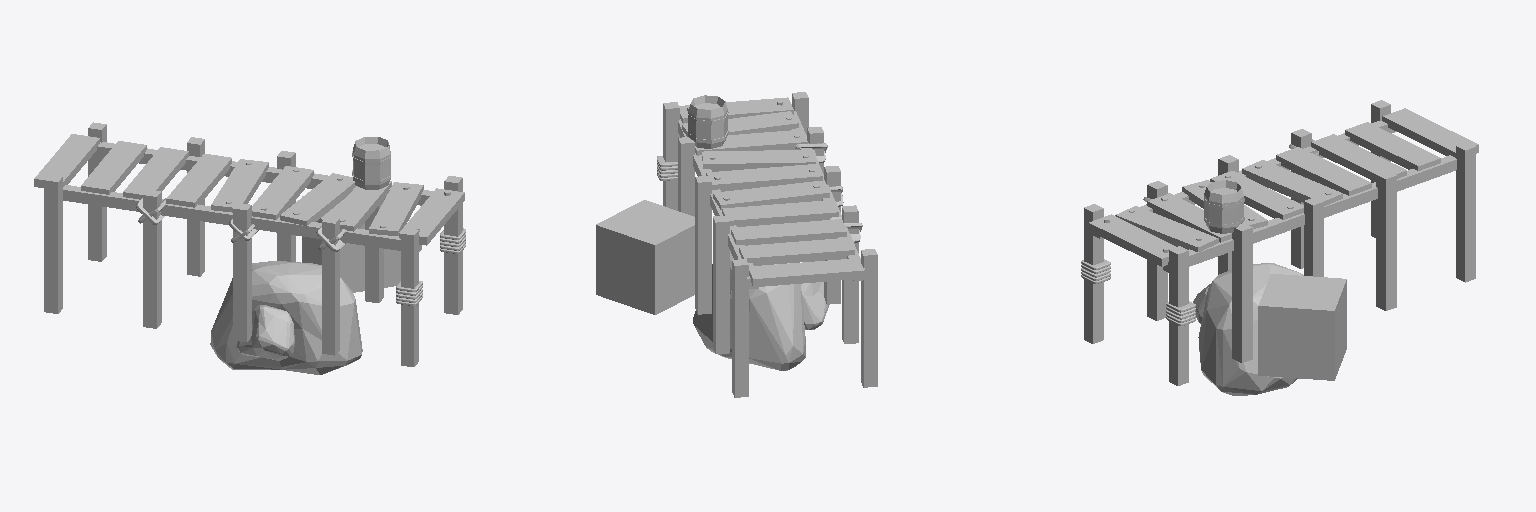
Rendered from bridge.obj.
3 renders of one model, left to right at view 1: azimuth 30°, elevation 25°; view 2: azimuth 150°, elevation 25°; view 3: azimuth 270°, elevation 25°, orthographic.
Parts seen in each view (by area): view 1: mesh_42, mesh_51, mesh_0, mesh_11, mesh_28, mesh_4, mesh_16, mesh_39, mesh_41, mesh_22, mesh_48, mesh_50 (+8 smaller); view 2: mesh_39, mesh_42, mesh_0, mesh_28, mesh_16, mesh_40, mesh_50, mesh_48, mesh_49, mesh_33, mesh_44, mesh_22 (+8 smaller); view 3: mesh_39, mesh_42, mesh_11, mesh_4, mesh_28, mesh_51, mesh_0, mesh_16, mesh_50, mesh_48, mesh_44, mesh_43 (+7 smaller).
Boxes of the visible parts, box(x1,y1,x2,y2) form: mesh_42: box(210, 261, 362, 374); mesh_51: box(63, 142, 433, 251); mesh_0: box(44, 122, 106, 313); mesh_11: box(401, 176, 462, 366); mesh_28: box(143, 137, 204, 328); mesh_4: box(322, 200, 383, 355); mesh_16: box(233, 151, 295, 341); mesh_39: box(302, 196, 400, 292); mesh_41: box(237, 305, 294, 360); mesh_22: box(280, 173, 355, 228); mesh_48: box(166, 154, 231, 207); mesh_50: box(81, 141, 146, 194); mesh_39: box(596, 200, 694, 314); mesh_42: box(693, 251, 805, 370); mesh_0: box(732, 249, 877, 397); mesh_28: box(713, 205, 858, 353); mesh_16: box(695, 166, 840, 314); mesh_40: box(749, 258, 863, 286); mesh_50: box(739, 238, 854, 265); mesh_48: box(722, 200, 838, 226); mesh_49: box(731, 219, 846, 245); mesh_33: box(706, 164, 822, 191); mesh_44: box(713, 181, 829, 209); mesh_22: box(702, 150, 815, 171); mesh_39: box(1258, 274, 1346, 380); mesh_42: box(1198, 263, 1303, 395); mesh_11: box(1084, 204, 1188, 385); mesh_4: box(1147, 181, 1252, 362); mesh_28: box(1291, 129, 1396, 310); mesh_51: box(1093, 121, 1456, 272); mesh_0: box(1371, 100, 1475, 282); mesh_16: box(1218, 155, 1323, 276); mesh_50: box(1345, 122, 1440, 170); mesh_48: box(1276, 147, 1371, 195); mesh_44: box(1242, 160, 1342, 205); mesh_43: box(1089, 214, 1175, 266).
Bounding box in the file's own units: 2.57 × 1.7 × 2.75.